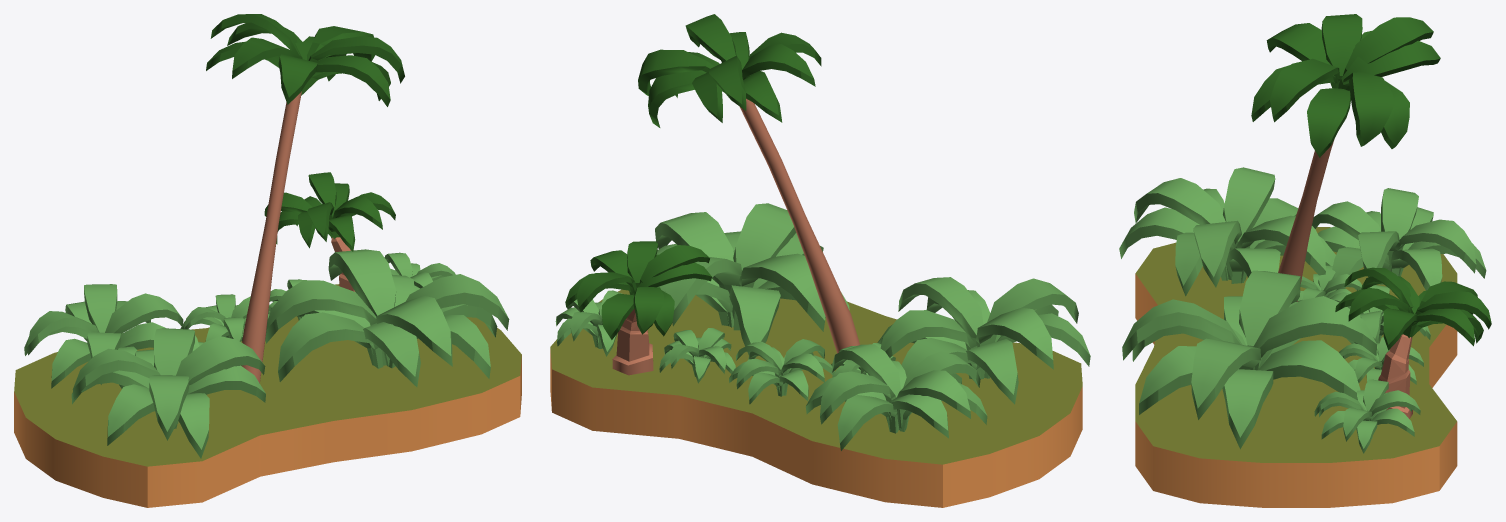
File: Wall v2.fbx
3 views of the same model, side by side, from view 1: azimuth 30°, elevation 25°; view 2: azimuth 150°, elevation 25°; view 3: azimuth 270°, elevation 25° (orthographic). The views are drawn at different scales.
Parts seen in each view (by area): view 1: Wall v2; view 2: Wall v2; view 3: Wall v2.
Part boxes in pixels (<box>): Wall v2: <box>14,14,521,507</box>; Wall v2: <box>550,14,1090,507</box>; Wall v2: <box>1119,14,1491,507</box>.
Bounding box in the file's own units: 8.7 × 6.71 × 5.8.
